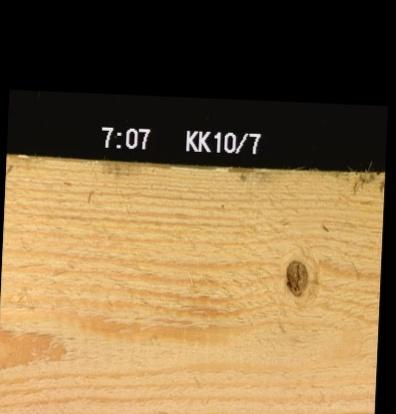wave: (150, 163, 299, 174)
